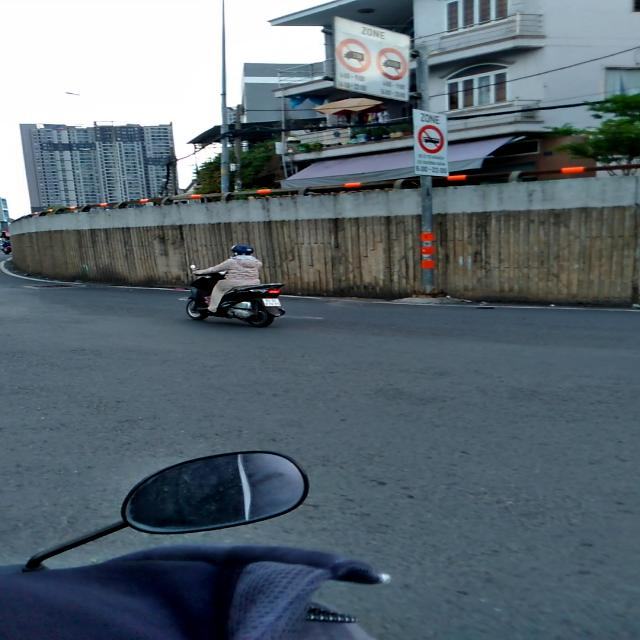P.106a: (336, 38, 371, 73), (374, 48, 408, 80)
P.107a: (417, 124, 444, 154)
